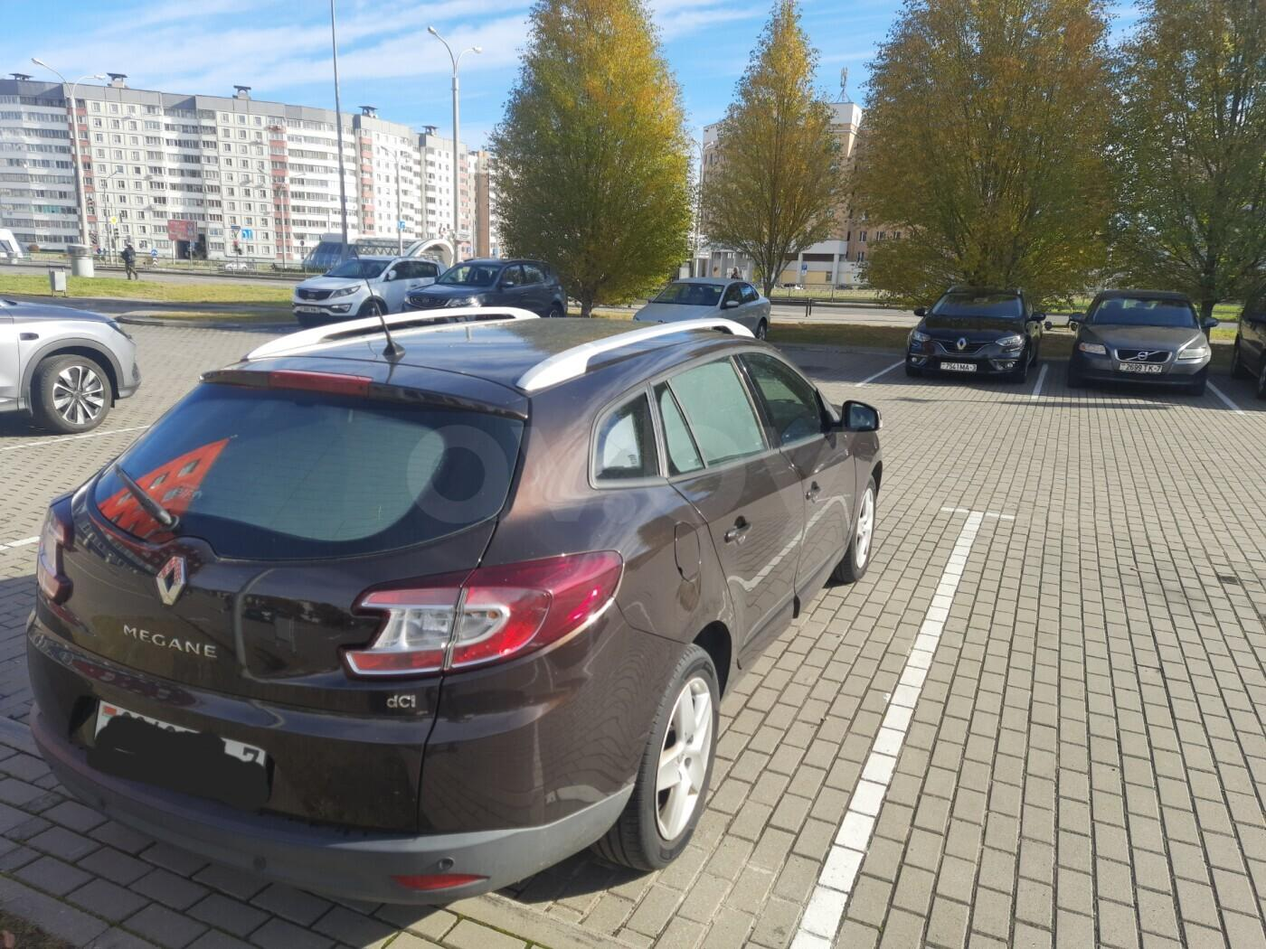Megane_2014-2016: (28, 312, 885, 866)
